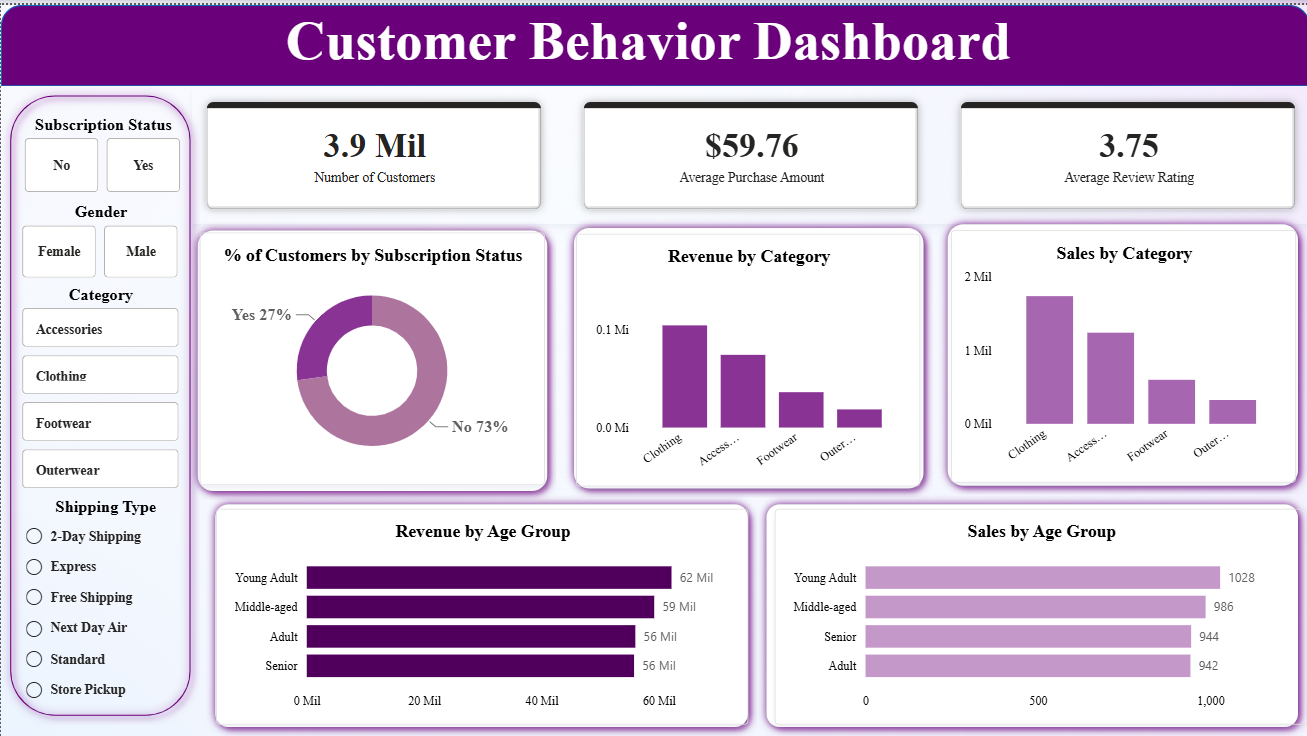

This screenshot's page, from the dashboard's own definition file:
{"tool":"powerbi","page":{"name":"Página 1","canvas":[1280,720],"ordinal":0},"visuals":[{"type":"cardVisual","fields":{"Data":["customer.Number of Customers","customer.Average Purchase Amount","customer.Average Review Rating"]},"box":[187.1,80.7,1093.2,133.3],"z":0},{"type":"shape","box":[0,0,1280.3,79.5],"z":1},{"type":"textbox","box":[0,0,1280.3,79.5],"z":2},{"type":"shape","box":[183.9,211.3,360,273],"z":3},{"type":"donutChart","title":"% of Customers by Subscription Status","fields":{"Category":["customer.subscription_status"],"Y":["CountNonNull(customer.customer_id)"]},"box":[194.7,222.1,337.5,247],"z":4},{"type":"shape","box":[551,209.1,360,273],"z":5},{"type":"shape","box":[917.1,205.4,360.7,273.9],"z":6},{"type":"clusteredColumnChart","title":"Revenue by Category","fields":{"Y":["Sum(customer.purchase_amount)"],"Category":["customer.category"]},"box":[562,223.8,337,247],"z":7},{"type":"clusteredColumnChart","title":"Sales by Category","fields":{"Category":["customer.category"],"Y":["CountNonNull(customer.customer_id)"]},"box":[929.4,220.1,337.5,247],"z":8},{"type":"shape","box":[0,79.5,194.4,624.9],"z":9},{"type":"advancedSlicerVisual","fields":{"Values":["customer.subscription_status"]},"box":[18.3,107.6,163.9,80.7],"z":10},{"type":"advancedSlicerVisual","fields":{"Values":["customer.gender"]},"box":[15.9,193.2,163.9,79.5],"z":11},{"type":"advancedSlicerVisual","fields":{"Values":["customer.category"]},"box":[15.9,273.9,163.9,205.4],"z":12},{"type":"listSlicer","fields":{"Values":["customer.shipping_type"]},"box":[18.3,481.8,168.8,210.3],"z":13},{"type":"shape","box":[200.5,479.4,539.3,236],"z":15},{"type":"clusteredBarChart","title":"Revenue by Age Group","fields":{"Y":["Sum(customer.purchase_amount)"],"Category":["customer.age_group"]},"box":[210.3,492.8,520.9,211.6],"z":16},{"type":"shape","box":[739.8,479.4,538,236],"z":17},{"type":"clusteredBarChart","title":"Sales by Age Group","fields":{"Y":["CountNonNull(customer.customer_id)"],"Category":["customer.age_group"]},"box":[756.9,492.8,520.9,211.6],"z":18}]}

Visuals, with their boxes in screenshot pixels (x1, y1, x2, y2), scaled from the page's 1280x720 canvas onto the 1307x736 screenshot:
cardVisual - customer.Number of Customers x customer.Average Purchase Amount: pyautogui.locateOnScreen(191, 82, 1306, 219)
shape: pyautogui.locateOnScreen(0, 0, 1306, 81)
textbox: pyautogui.locateOnScreen(0, 0, 1306, 81)
shape: pyautogui.locateOnScreen(188, 216, 555, 495)
"% of Customers by Subscription Status" donutChart: pyautogui.locateOnScreen(199, 227, 543, 480)
shape: pyautogui.locateOnScreen(563, 214, 930, 493)
shape: pyautogui.locateOnScreen(936, 210, 1305, 490)
"Revenue by Category" clusteredColumnChart: pyautogui.locateOnScreen(574, 229, 918, 481)
"Sales by Category" clusteredColumnChart: pyautogui.locateOnScreen(949, 225, 1294, 477)
shape: pyautogui.locateOnScreen(0, 81, 199, 720)
advancedSlicerVisual - customer.subscription_status: pyautogui.locateOnScreen(19, 110, 186, 192)
advancedSlicerVisual - customer.gender: pyautogui.locateOnScreen(16, 197, 184, 279)
advancedSlicerVisual - customer.category: pyautogui.locateOnScreen(16, 280, 184, 490)
listSlicer - customer.shipping_type: pyautogui.locateOnScreen(19, 493, 191, 707)
shape: pyautogui.locateOnScreen(205, 490, 755, 731)
"Revenue by Age Group" clusteredBarChart: pyautogui.locateOnScreen(215, 504, 747, 720)
shape: pyautogui.locateOnScreen(755, 490, 1305, 731)
"Sales by Age Group" clusteredBarChart: pyautogui.locateOnScreen(773, 504, 1305, 720)
